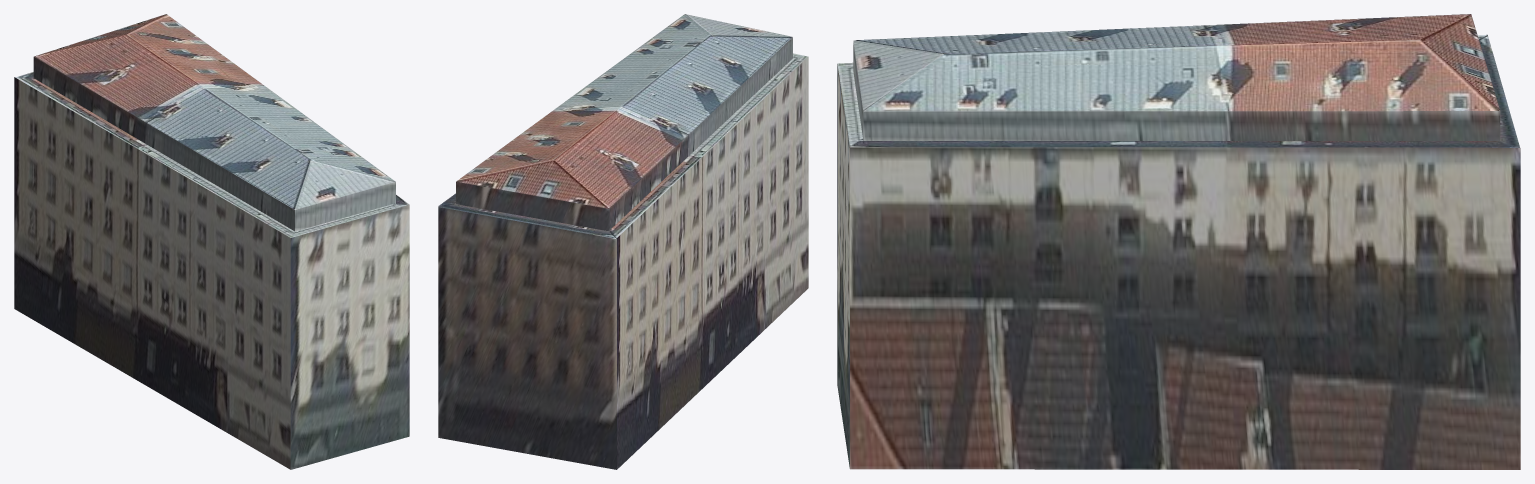
The model's file is LYON_1ER_00125.dae.
The picture shows the model from 3 angles, left to right: view 1: azimuth 30°, elevation 25°; view 2: azimuth 150°, elevation 25°; view 3: azimuth 270°, elevation 25°; orthographic projection. The views are drawn at different scales.
Bounding box in the file's own units: 15.38 × 39.25 × 23.86.
1 material, 1 textured.
